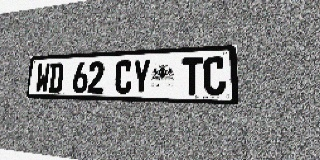2: (87, 61, 105, 94)
6: (72, 62, 89, 93)
C: (203, 56, 226, 95), (114, 60, 133, 94)
D: (48, 63, 64, 93)
T: (182, 57, 203, 95)
W: (35, 63, 50, 93)
Y: (132, 59, 151, 94)
